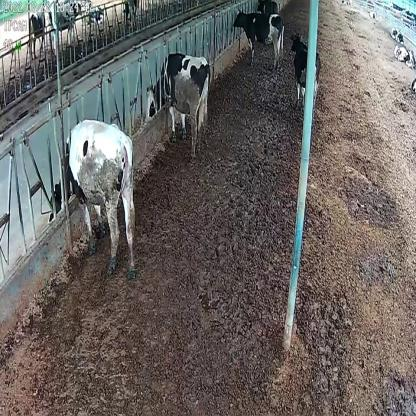cow: (48, 119, 137, 276), (146, 50, 210, 160), (234, 8, 285, 76), (291, 29, 321, 117)
